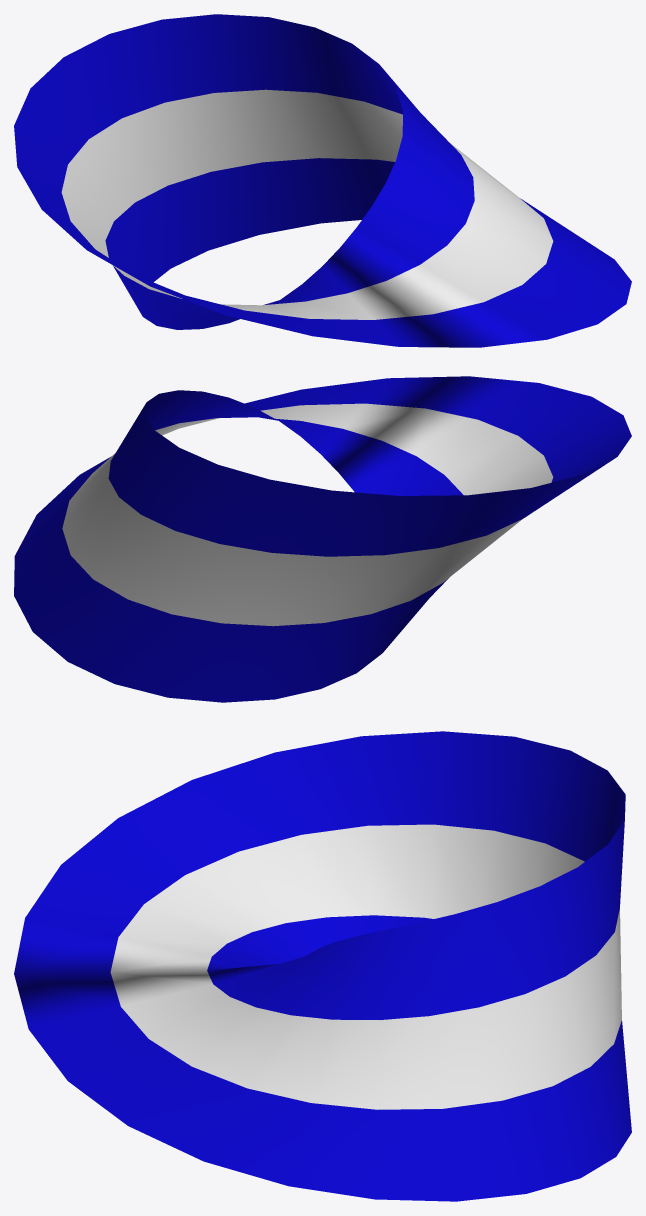
The model's file is mobiusstrip.fbx.
3 views of the same model, one above another, from view 1: azimuth 30°, elevation 25°; view 2: azimuth 150°, elevation 25°; view 3: azimuth 270°, elevation 25° (orthographic). The views are drawn at different scales.
Parts seen in each view (by area): view 1: Plane.002; view 2: Plane.002; view 3: Plane.002.
Boxes of the visible parts, x1,y1,x2,y2 form: Plane.002: [14, 14, 631, 347]; Plane.002: [14, 376, 631, 702]; Plane.002: [14, 731, 631, 1201].
Size of the model in its own units: 0.9262 by 0.3995 by 0.8533.
